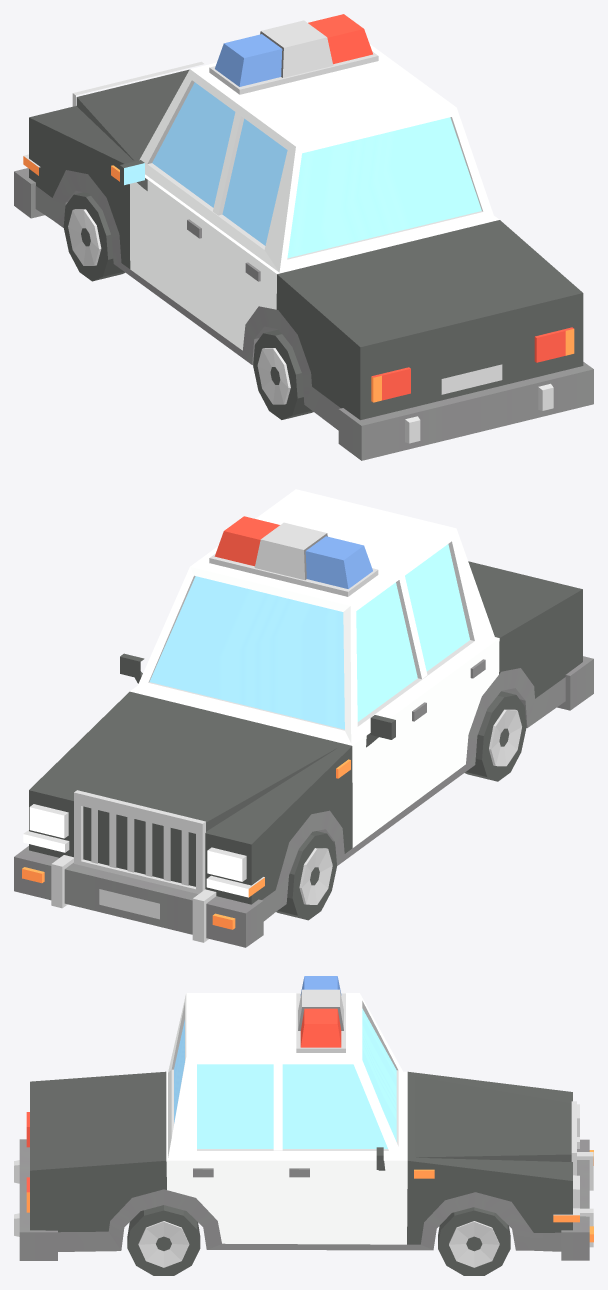
Rendered from transport_purpose.002.glb.
3 views of the same model, one above another, from view 1: azimuth 30°, elevation 25°; view 2: azimuth 150°, elevation 25°; view 3: azimuth 270°, elevation 25° (orthographic). The views are drawn at different scales.
Visible parts, largest first — view 1: transport_purpose.002(Clone); view 2: transport_purpose.002(Clone); view 3: transport_purpose.002(Clone).
Boxes of the visible parts, <box> form: transport_purpose.002(Clone): <box>14,14,593,460</box>; transport_purpose.002(Clone): <box>14,489,593,947</box>; transport_purpose.002(Clone): <box>14,976,593,1275</box>.
Size of the model in its own units: 1.48 by 1.47 by 3.33.
Materials: 1 (1 with a texture image).
